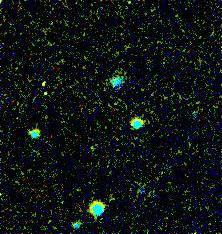star: (28, 87, 58, 117)
